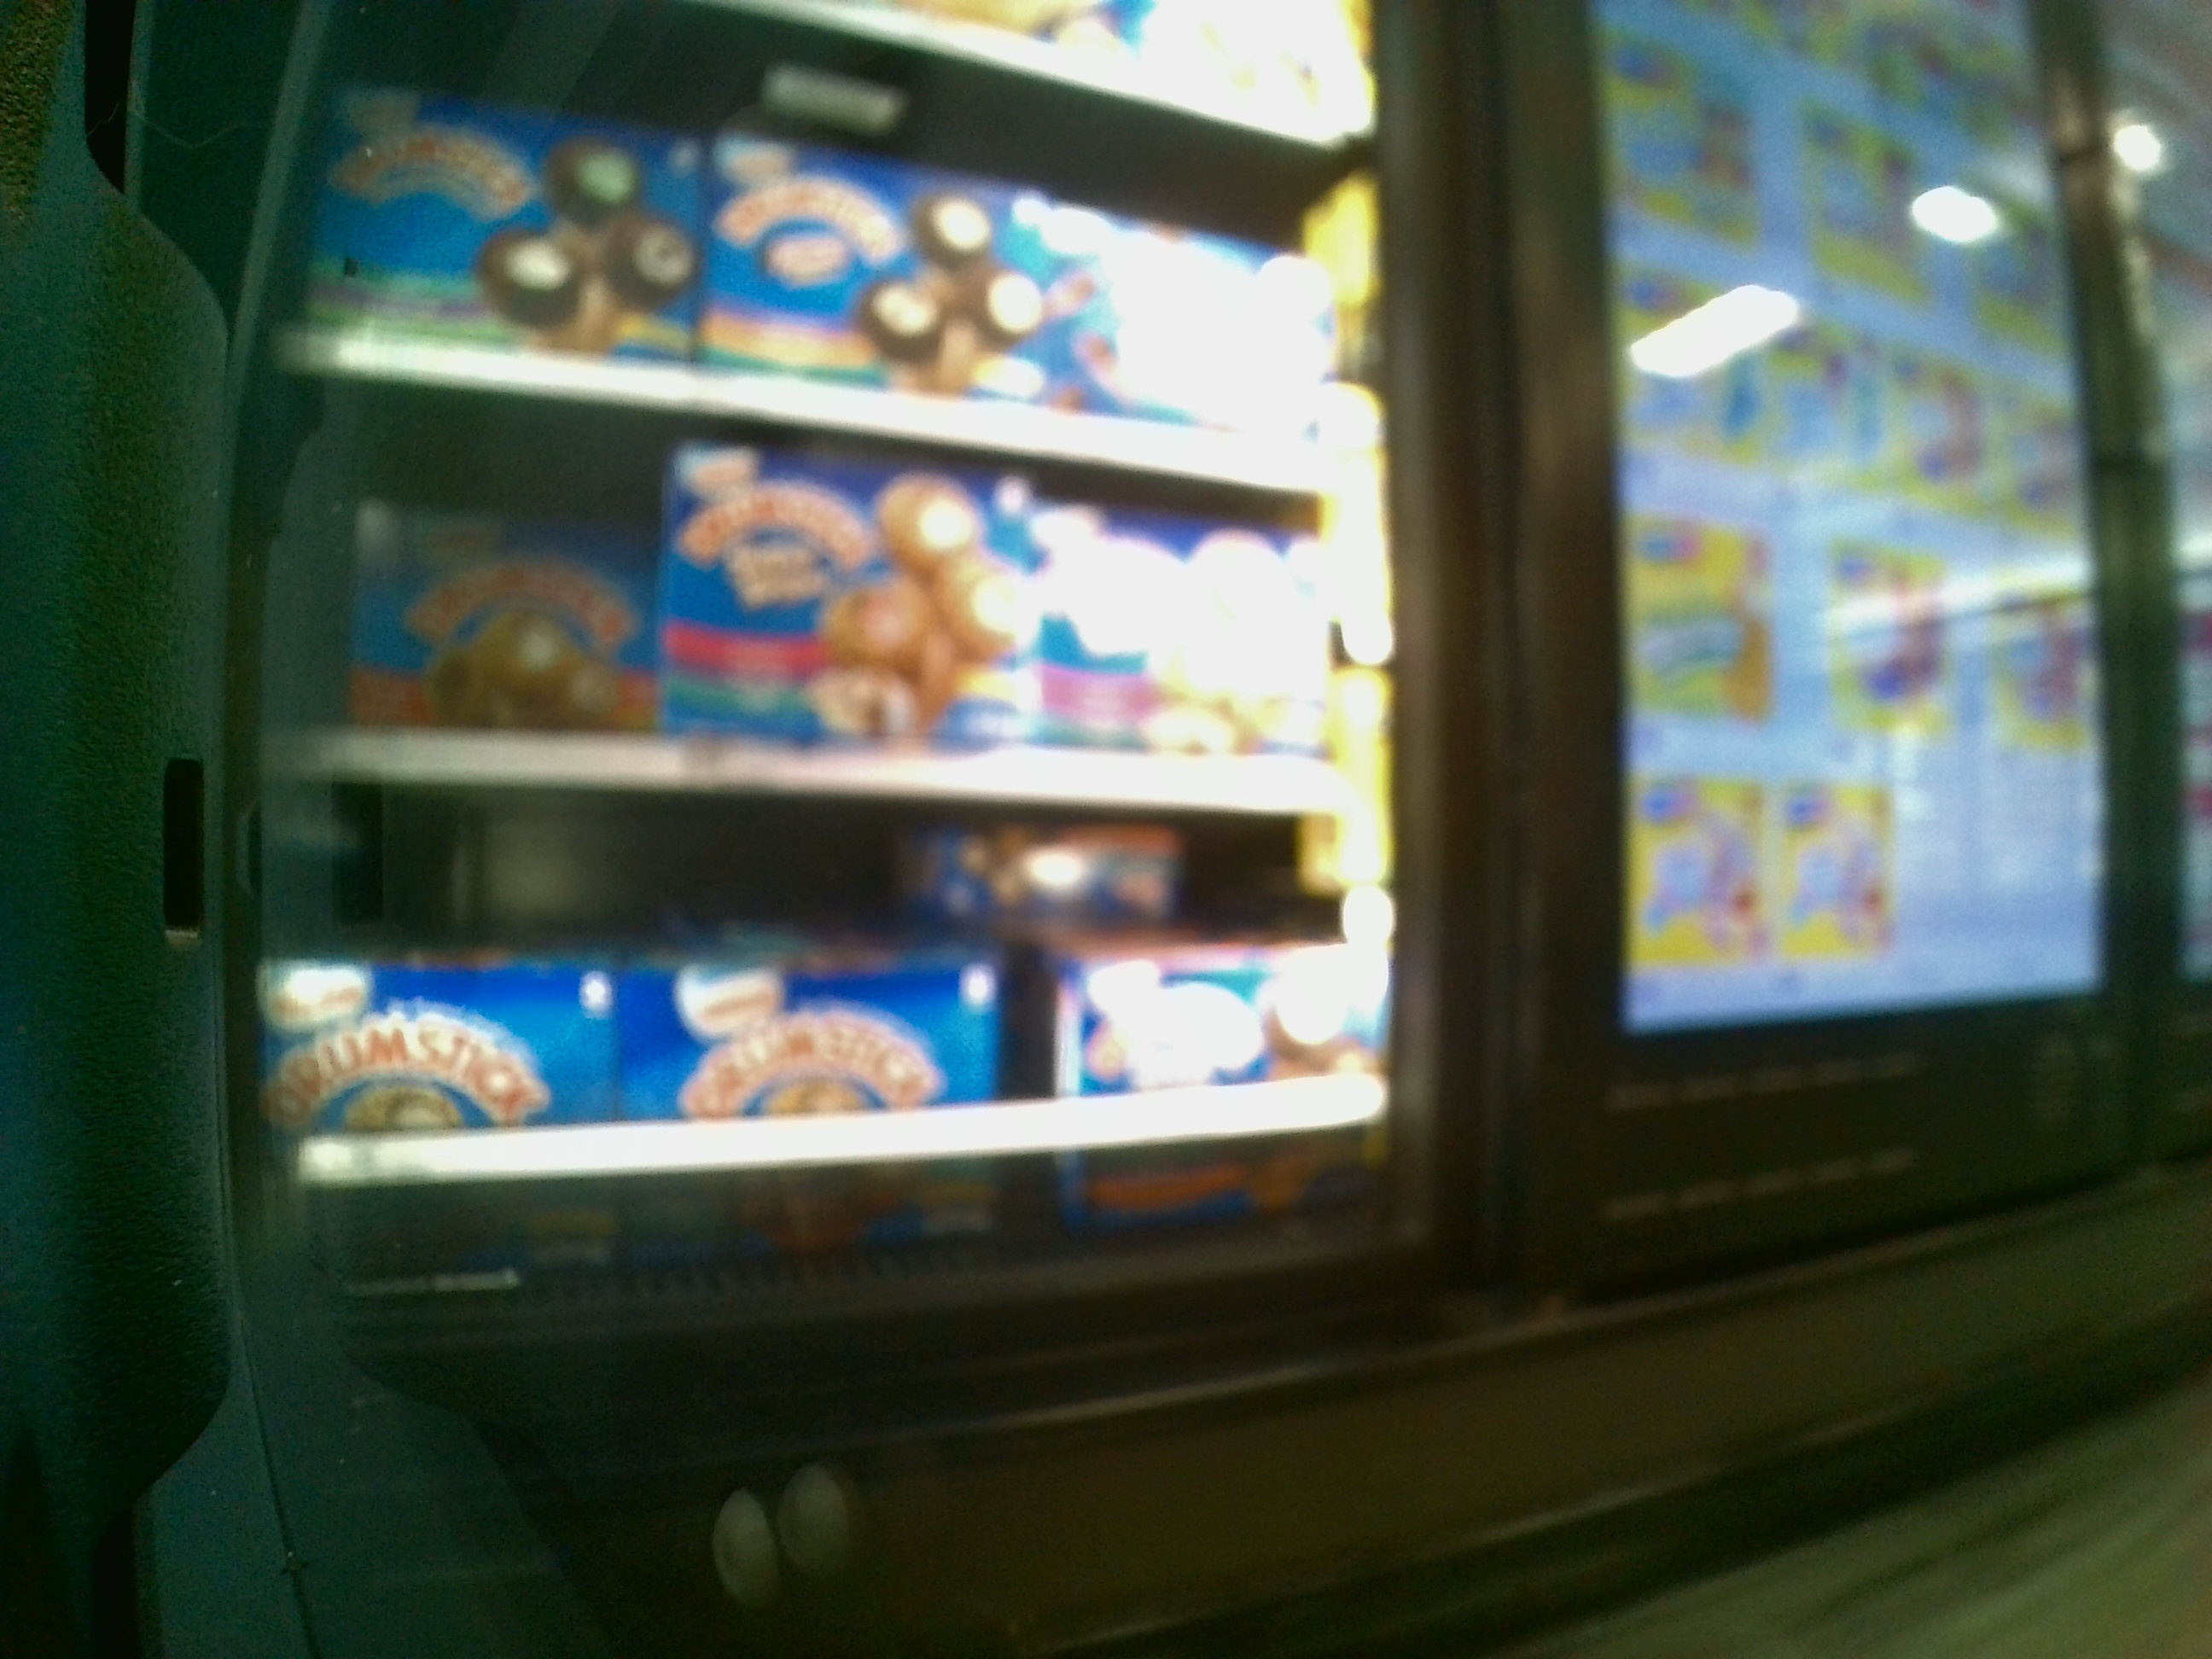shelf: (289, 793, 1385, 1244), (287, 420, 1379, 793)
